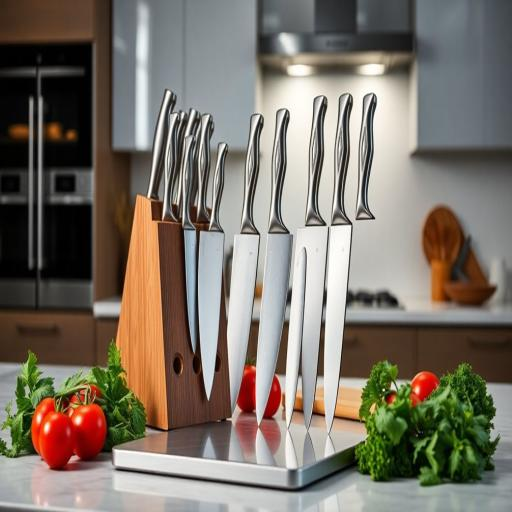knife: (252, 106, 296, 435)
